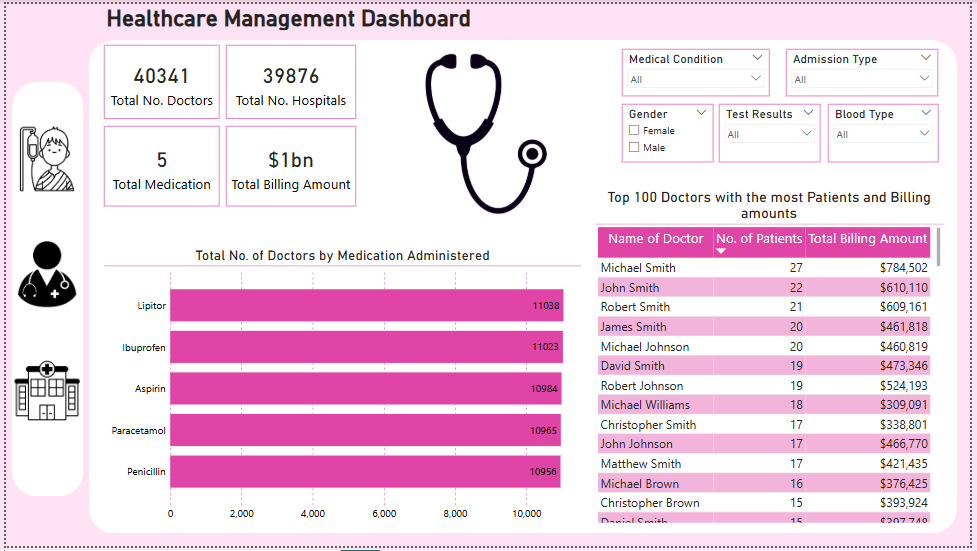

What the dashboard file says about the page in this screenshot:
{"tool":"powerbi","page":{"name":"Doctors","canvas":[1920,1080],"ordinal":1},"visuals":[{"type":"shape","box":[164.6,72.4,1729.8,983.4],"z":0},{"type":"textbox","title":"Healthcare Management Dashboard","box":[195.4,0,807.8,57.1],"z":1000},{"type":"card","fields":{"Values":["healthcare_dataset.Doctor"]},"box":[195.4,81.2,230.5,147.1],"z":2000},{"type":"shape","box":[11,155.9,142.7,825.4],"z":3000},{"type":"card","fields":{"Values":["healthcare_dataset.Hospital"]},"box":[439,81.2,259,147.1],"z":4000},{"type":"card","fields":{"Values":["healthcare_dataset.Medication"]},"box":[195.4,243.7,230.5,160.2],"z":5000},{"type":"barChart","title":"Total No. of Doctors by Medication Administered","fields":{"Category":["healthcare_dataset.Medication"],"Y":["healthcare_dataset.Doctor"]},"box":[195.3,484.2,950.5,553.9],"z":7000},{"type":"tableEx","title":"Top 100 Doctors with the most Patients and Billing amounts","fields":{"Values":["healthcare_dataset.Doctor","healthcare_dataset.Name","healthcare_dataset.Billing Amount"]},"box":[1174.4,366.6,693.7,671.7],"z":8000},{"type":"slicer","fields":{"Values":["healthcare_dataset.Blood Type"]},"box":[1637.6,199.8,219.5,116.3],"z":9000},{"type":"slicer","fields":{"Values":["healthcare_dataset.Gender"]},"box":[1227.1,199.8,182.2,116.3],"z":10000},{"type":"slicer","fields":{"Values":["healthcare_dataset.Admission Type"]},"box":[1554.1,90,302.9,94.4],"z":11000},{"type":"slicer","fields":{"Values":["healthcare_dataset.Test Results"]},"box":[1420.2,199.8,202,116.3],"z":12000},{"type":"slicer","fields":{"Values":["healthcare_dataset.Medical Condition"]},"box":[1227.1,90,294.1,94.4],"z":13000},{"type":"image","box":[0,228.3,164.6,158],"z":14000},{"type":"image","box":[0,458.8,164.6,160.2],"z":15000},{"type":"card","fields":{"Values":["healthcare_dataset.Billing Amount"]},"box":[439,243.7,259,160.2],"z":15001},{"type":"image","box":[763.9,81.2,388.5,357.8],"z":15003},{"type":"image","box":[11,588.3,140.5,364.4],"z":15004}]}

Visuals, with their boxes in screenshot pixels (x1, y1, x2, y2), scaled from the page's 1920x1080 canvas onto the 977x551 screenshot:
shape: left=84, top=37, right=964, bottom=539
"Healthcare Management Dashboard" textbox: left=99, top=0, right=510, bottom=29
card - healthcare_dataset.Doctor: left=99, top=41, right=217, bottom=116
shape: left=6, top=80, right=78, bottom=501
card - healthcare_dataset.Hospital: left=223, top=41, right=355, bottom=116
card - healthcare_dataset.Medication: left=99, top=124, right=217, bottom=206
"Total No. of Doctors by Medication Administered" barChart: left=99, top=247, right=583, bottom=530
"Top 100 Doctors with the most Patients and Billing amounts" tableEx: left=598, top=187, right=951, bottom=530
slicer - healthcare_dataset.Blood Type: left=833, top=102, right=945, bottom=161
slicer - healthcare_dataset.Gender: left=624, top=102, right=717, bottom=161
slicer - healthcare_dataset.Admission Type: left=791, top=46, right=945, bottom=94
slicer - healthcare_dataset.Test Results: left=723, top=102, right=825, bottom=161
slicer - healthcare_dataset.Medical Condition: left=624, top=46, right=774, bottom=94
image: left=0, top=116, right=84, bottom=197
image: left=0, top=234, right=84, bottom=316
card - healthcare_dataset.Billing Amount: left=223, top=124, right=355, bottom=206
image: left=389, top=41, right=586, bottom=224
image: left=6, top=300, right=77, bottom=486
